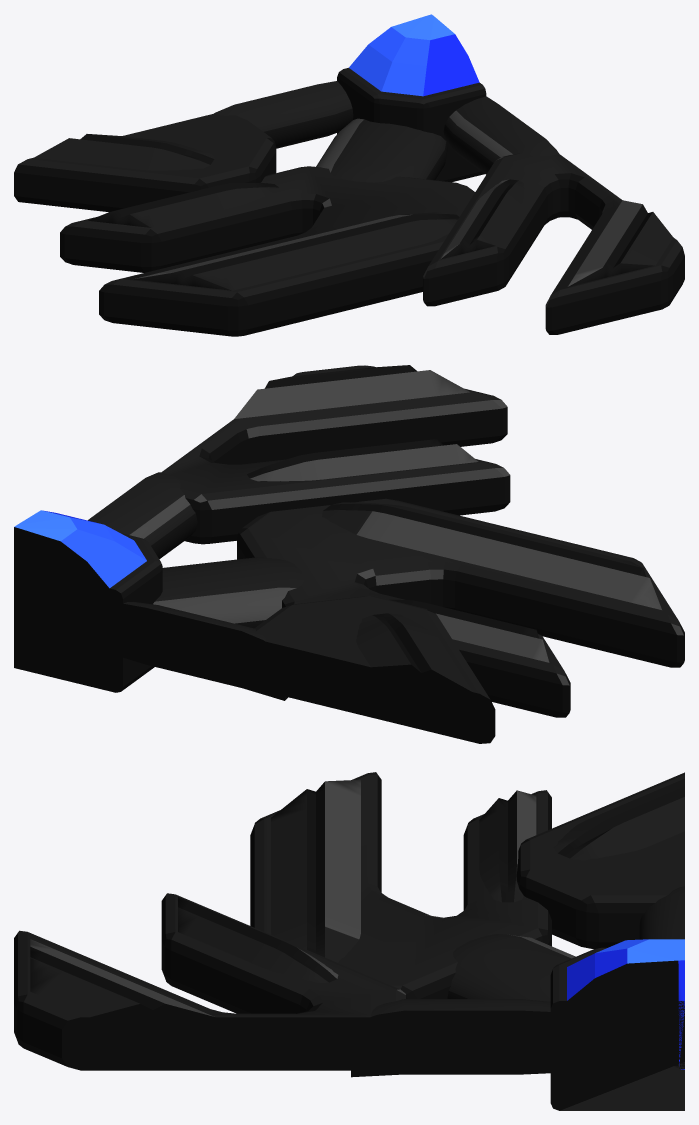
Rendered from dark_saw_271.glb.
The picture shows the model from 3 angles, top to bottom: view 1: azimuth 30°, elevation 25°; view 2: azimuth 150°, elevation 25°; view 3: azimuth 270°, elevation 25°; orthographic projection. The views are drawn at different scales.
Parts seen in each view (by area): view 1: dark_saw_271_under2_plate, dark_saw_271_arm2_plate, dark_saw_271_arm3_plate, dark_saw_271_under2_ridge0, dark_saw_271_gem, dark_saw_271_under2_rod, dark_saw_271_gem_bezel, dark_saw_271_arm3_rod, dark_saw_271_arm2_rod, dark_saw_271_arm2_ridge0, dark_saw_271_arm3_ridge0, dark_saw_271_under2_ridge1 (+1 smaller); view 2: dark_saw_271_under2_plate, dark_saw_271_arm2_plate, dark_saw_271_arm3_plate, dark_saw_271_under2_ridge0, dark_saw_271_arm3_rod, dark_saw_271_gem_bezel, dark_saw_271_gem, dark_saw_271_under2_rod, dark_saw_271_arm2_ridge0, dark_saw_271_arm2_ridge1, dark_saw_271_arm3_ridge0, dark_saw_271_arm2_rod (+1 smaller); view 3: dark_saw_271_arm2_plate, dark_saw_271_under2_plate, dark_saw_271_gem_bezel, dark_saw_271_arm2_rod, dark_saw_271_under2_ridge0, dark_saw_271_arm3_plate, dark_saw_271_gem, dark_saw_271_arm2_ridge0, dark_saw_271_under2_rod, dark_saw_271_arm3_ridge0, dark_saw_271_arm2_ridge1, dark_saw_271_under2_ridge1 (+1 smaller).
Part boxes in pixels (left/top/right/bottom): dark_saw_271_under2_plate: left=60, top=166, right=474, bottom=336; dark_saw_271_arm2_plate: left=423, top=153, right=684, bottom=334; dark_saw_271_arm3_plate: left=14, top=114, right=276, bottom=211; dark_saw_271_under2_ridge0: left=133, top=212, right=459, bottom=290; dark_saw_271_gem: left=349, top=14, right=479, bottom=96; dark_saw_271_under2_rod: left=316, top=118, right=447, bottom=182; dark_saw_271_gem_bezel: left=337, top=67, right=486, bottom=182; dark_saw_271_arm3_rod: left=214, top=81, right=353, bottom=148; dark_saw_271_arm2_rod: left=443, top=96, right=559, bottom=174; dark_saw_271_arm2_ridge0: left=568, top=200, right=673, bottom=286; dark_saw_271_arm3_ridge0: left=34, top=134, right=214, bottom=170; dark_saw_271_under2_ridge1: left=88, top=183, right=279, bottom=227; dark_saw_271_under2_plate: left=237, top=498, right=684, bottom=717; dark_saw_271_arm2_plate: left=161, top=365, right=510, bottom=544; dark_saw_271_arm3_plate: left=237, top=596, right=495, bottom=743; dark_saw_271_under2_ridge0: left=322, top=502, right=661, bottom=609; dark_saw_271_arm3_rod: left=83, top=597, right=287, bottom=700; dark_saw_271_gem_bezel: left=14, top=533, right=162, bottom=692; dark_saw_271_gem: left=14, top=510, right=146, bottom=629; dark_saw_271_under2_rod: left=153, top=557, right=304, bottom=628; dark_saw_271_arm2_ridge0: left=234, top=365, right=469, bottom=418; dark_saw_271_arm2_ridge1: left=247, top=439, right=478, bottom=481; dark_saw_271_arm3_ridge0: left=356, top=613, right=478, bottom=702; dark_saw_271_arm2_rod: left=88, top=472, right=197, bottom=558; dark_saw_271_arm2_plate: left=14, top=893, right=409, bottom=1070; dark_saw_271_under2_plate: left=250, top=772, right=551, bottom=998; dark_saw_271_gem_bezel: left=550, top=947, right=684, bottom=1110; dark_saw_271_arm2_rod: left=351, top=999, right=599, bottom=1077; dark_saw_271_under2_ridge0: left=271, top=779, right=360, bottom=962; dark_saw_271_arm3_plate: left=516, top=772, right=684, bottom=948; dark_saw_271_gem: left=563, top=939, right=684, bottom=1069; dark_saw_271_arm2_ridge0: left=30, top=939, right=227, bottom=1026; dark_saw_271_under2_rod: left=447, top=934, right=575, bottom=1001; dark_saw_271_arm3_ridge0: left=553, top=778, right=684, bottom=860; dark_saw_271_arm2_ridge1: left=178, top=897, right=338, bottom=982; dark_saw_271_under2_ridge1: left=479, top=790, right=536, bottom=902.
Size of the model in its own units: 21.97 by 5.62 by 22.7.
